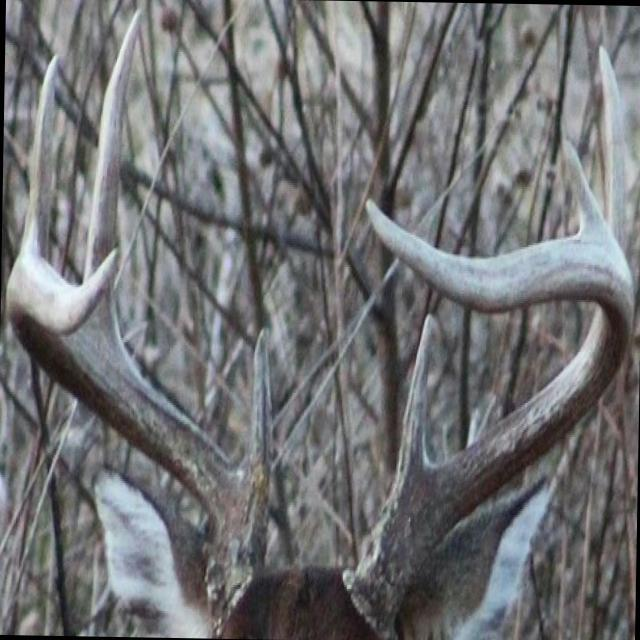L-F: (338, 195, 635, 640)
L-G1: (393, 312, 437, 485)
L-G2: (558, 136, 622, 247)
R-G1: (239, 322, 273, 500)
R-G2: (80, 0, 144, 355)
R-G3: (15, 47, 62, 263)
